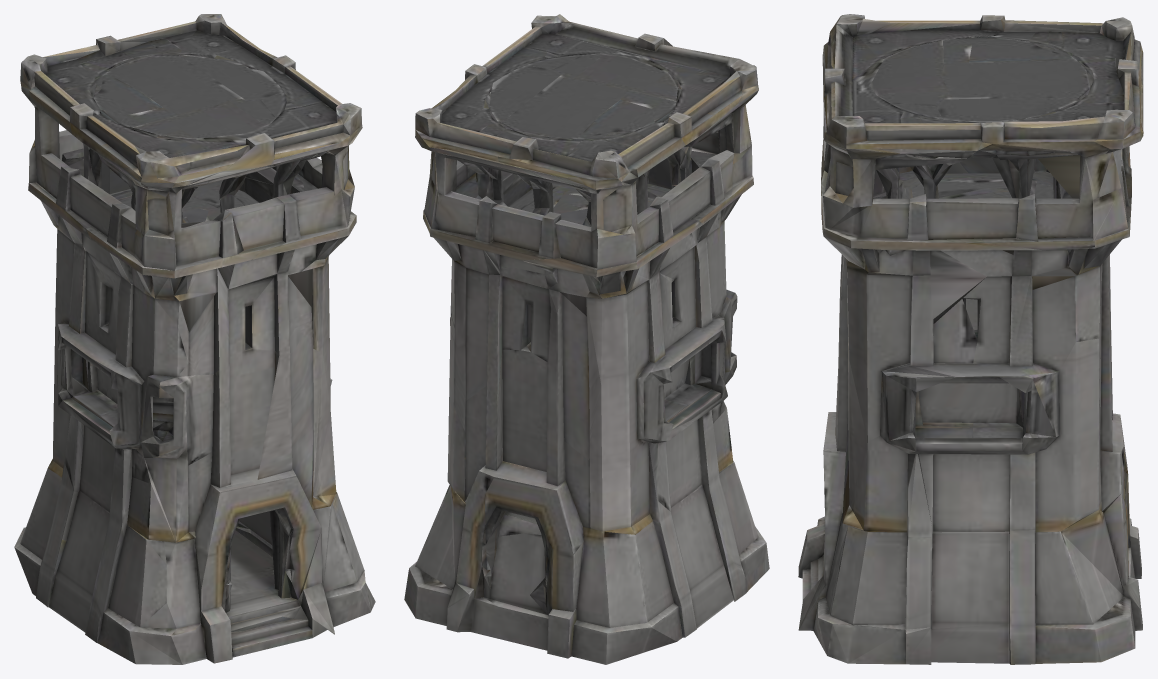
Rendered from imperial_city_wall_tower_lod1.glb.
3 renders of one model, left to right at view 1: azimuth 30°, elevation 25°; view 2: azimuth 150°, elevation 25°; view 3: azimuth 270°, elevation 25°, orthographic. The views are drawn at different scales.
Parts seen in each view (by area): view 1: mesh_node; view 2: mesh_node; view 3: mesh_node.
Boxes of the visible parts, x1,y1,x2,y2 form: mesh_node: (14,14,375,664); mesh_node: (404,14,769,664); mesh_node: (798,14,1143,664).
Bounding box in the file's own units: 6.46 × 12.19 × 7.17.
Materials: 1 (1 with a texture image).
